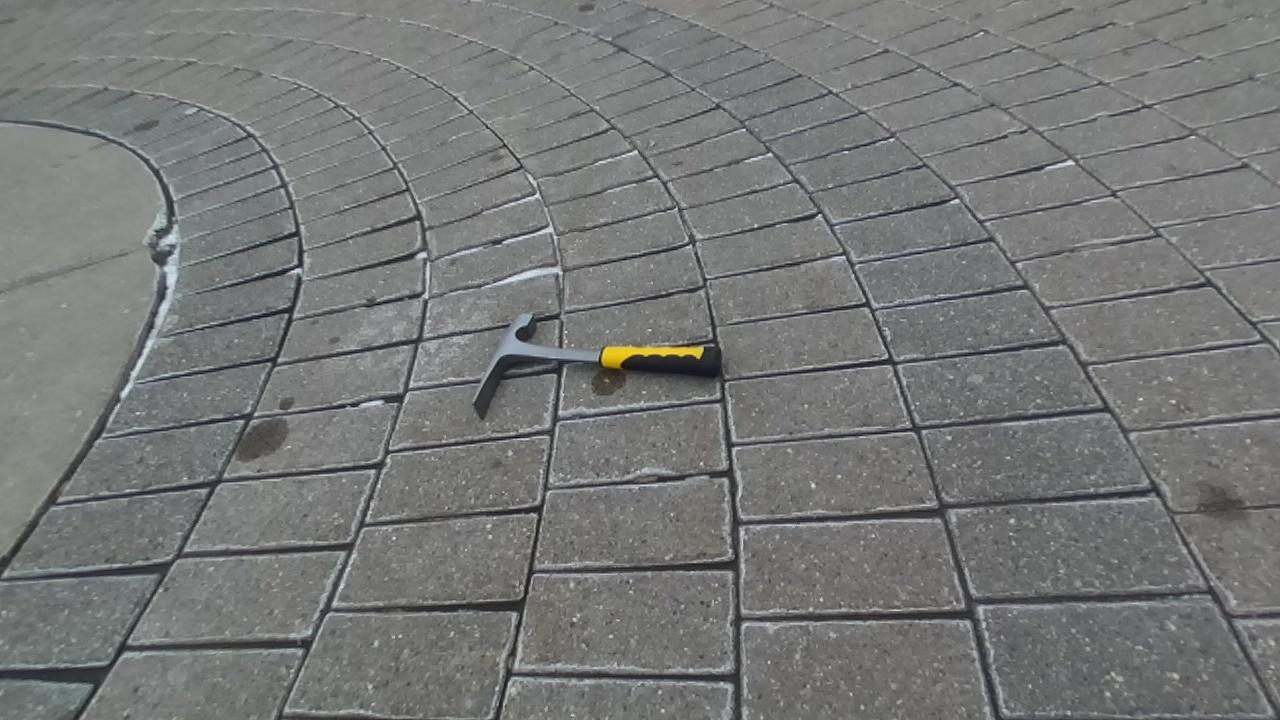pick: (473, 313, 721, 418)
